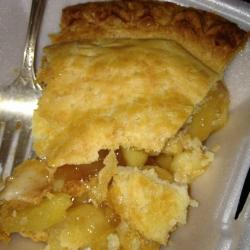apple_pie: (43, 7, 228, 250)
